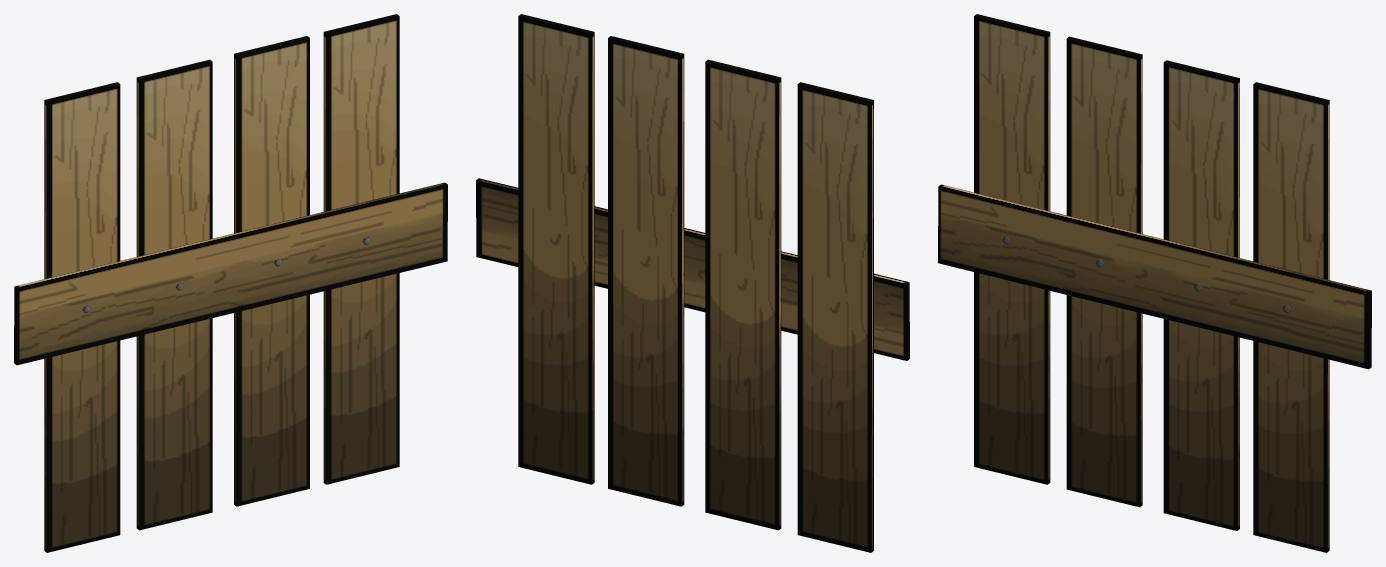
File: Fence.FBX
3 renders of one model, left to right at view 1: azimuth 30°, elevation 25°; view 2: azimuth 150°, elevation 25°; view 3: azimuth 330°, elevation 25°, orthographic.
Visible parts, largest first — view 1: Box006, Box001, Box004, Box002, Box003; view 2: Box001, Box002, Box003, Box004, Box006; view 3: Box006, Box001, Box002, Box004, Box003.
Boxes of the visible parts, x1=… form: Box006: x1=14, y1=182, x2=447, y2=365; Box001: x1=44, y1=82, x2=120, y2=552; Box004: x1=323, y1=14, x2=399, y2=484; Box002: x1=136, y1=59, x2=212, y2=530; Box003: x1=234, y1=36, x2=309, y2=506; Box001: x1=797, y1=82, x2=873, y2=552; Box002: x1=705, y1=59, x2=781, y2=530; Box003: x1=608, y1=36, x2=684, y2=506; Box004: x1=518, y1=14, x2=594, y2=484; Box006: x1=476, y1=178, x2=909, y2=360; Box006: x1=938, y1=184, x2=1371, y2=369; Box001: x1=974, y1=14, x2=1050, y2=484; Box002: x1=1066, y1=36, x2=1142, y2=507; Box004: x1=1253, y1=82, x2=1329, y2=552; Box003: x1=1163, y1=60, x2=1239, y2=530.
Size of the model in its own units: 35.91 by 35.9 by 0.9601.
Materials: 1 (1 with a texture image).
